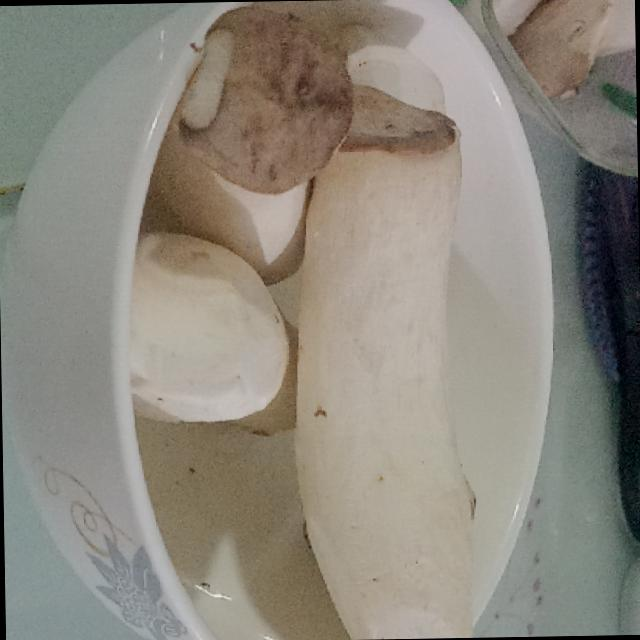Pleurotus eryngii: (121, 0, 478, 640)
